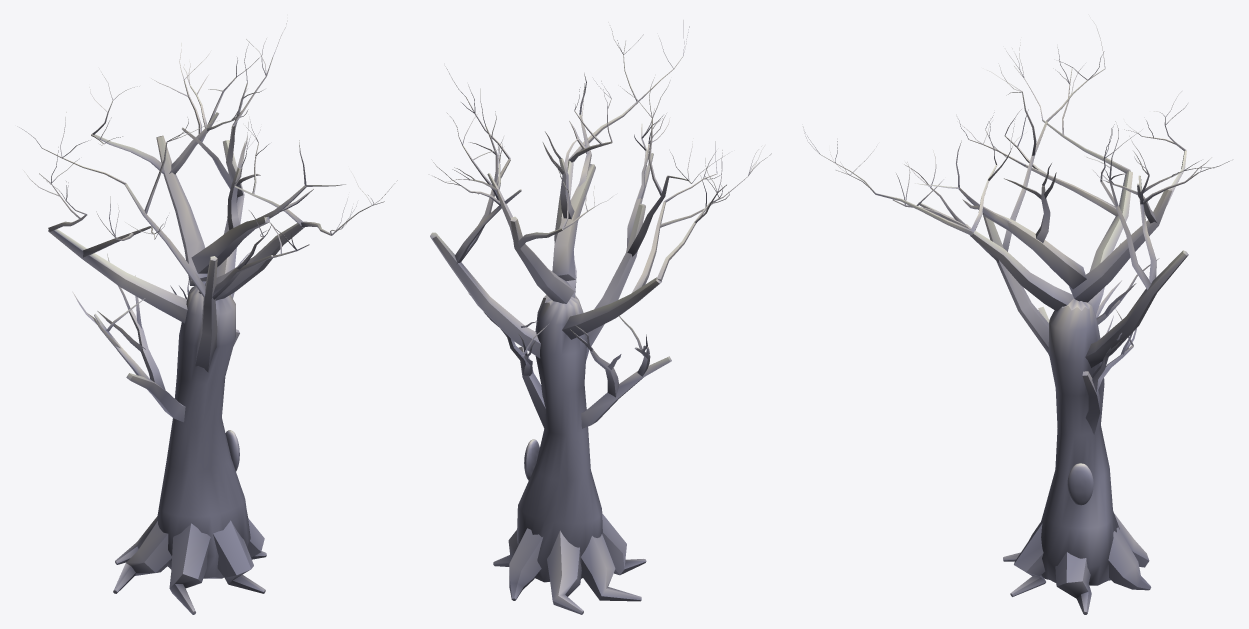
Rendered from tree.glb.
3 views of the same model, side by side, from view 1: azimuth 30°, elevation 25°; view 2: azimuth 150°, elevation 25°; view 3: azimuth 270°, elevation 25° (orthographic). The views are drawn at different scales.
Visible parts, largest first — view 1: trunk, crown; view 2: crown, trunk; view 3: crown, trunk.
Boxes of the visible parts, x1,y1,x2,y2 form: trunk: (113, 281, 266, 614); crown: (17, 20, 397, 422); crown: (430, 20, 771, 430); trunk: (493, 294, 646, 614); crown: (803, 20, 1229, 434); trunk: (1003, 298, 1151, 614).
Size of the model in its own units: 2.83 by 4.85 by 3.69.
